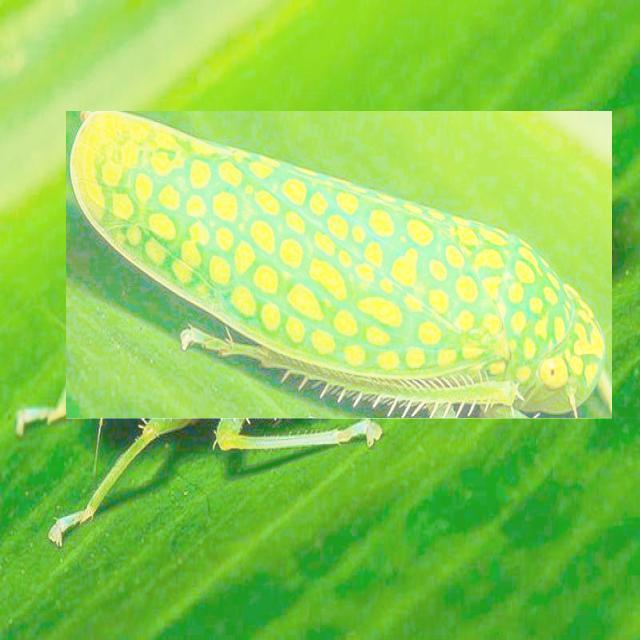green-leafhopper: (66, 112, 612, 420)
